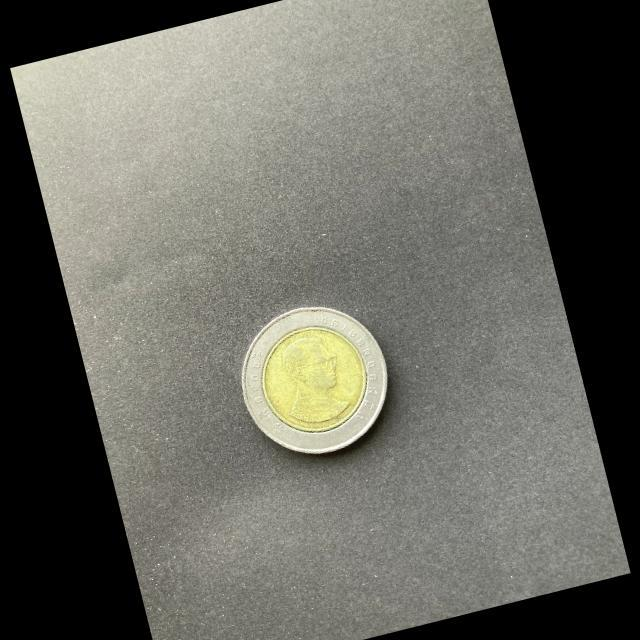10 Bath: (237, 302, 395, 463)
